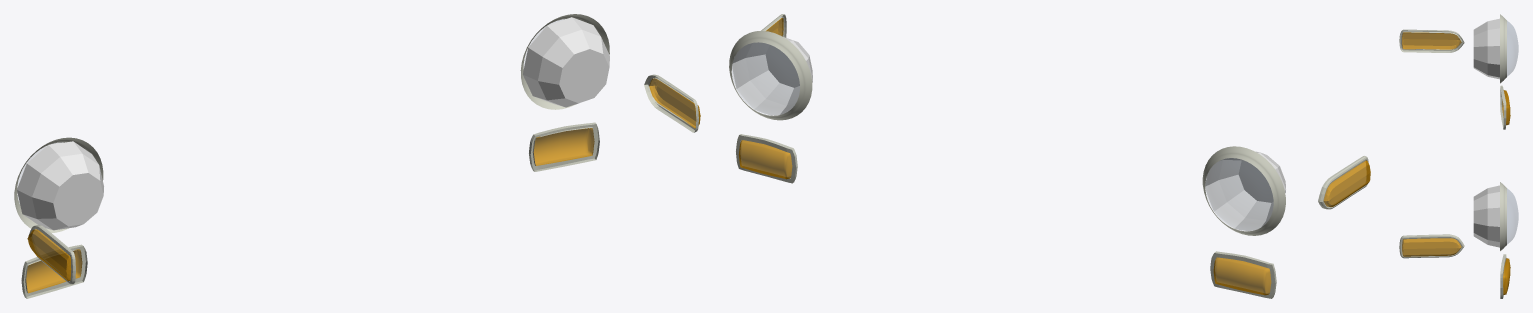
File: Front_Lights.dae
3 renders of one model, left to right at view 1: azimuth 30°, elevation 25°; view 2: azimuth 150°, elevation 25°; view 3: azimuth 270°, elevation 25°, orthographic. The views are drawn at different scales.
Parts seen in each view (by area): view 1: headlight_socket, front_light_lense, Front_sidelight_glass, Front_light_frame, headlight_trim_crome, Front_sidelight; view 2: headlight_socket, headlight_glass, headlight_trim_crome, front_light_lense, Front_light_frame, Front_sidelight_glass, Front_sidelight; view 3: headlight_socket, Front_sidelight_glass, Front_sidelight, headlight_glass, headlight_trim_crome, Front_light_frame, front_light_lense.
Part boxes in pixels (x1,y1,x2,y2): headlight_socket: (17,17,609,230); front_light_lense: (26,128,594,293); Front_sidelight_glass: (27,78,700,280); Front_light_frame: (21,122,599,298); headlight_trim_crome: (14,14,609,232); Front_sidelight: (29,74,698,284); headlight_socket: (732,37,1285,231); headlight_glass: (732,43,1272,230); headlight_trim_crome: (729,30,1285,235); front_light_lense: (738,140,1271,295); Front_light_frame: (736,134,1276,298); Front_sidelight_glass: (766,18,1370,206); Front_sidelight: (761,14,1368,209); headlight_socket: (1473,18,1499,247); Front_sidelight_glass: (1402,32,1461,256); Front_sidelight: (1399,29,1464,258); headlight_glass: (1507,21,1518,243); headlight_trim_crome: (1500,14,1506,250); Front_light_frame: (1500,85,1506,298); front_light_lense: (1502,90,1510,294).
Size of the model in its own units: 1.49 by 0.3565 by 0.3419.
